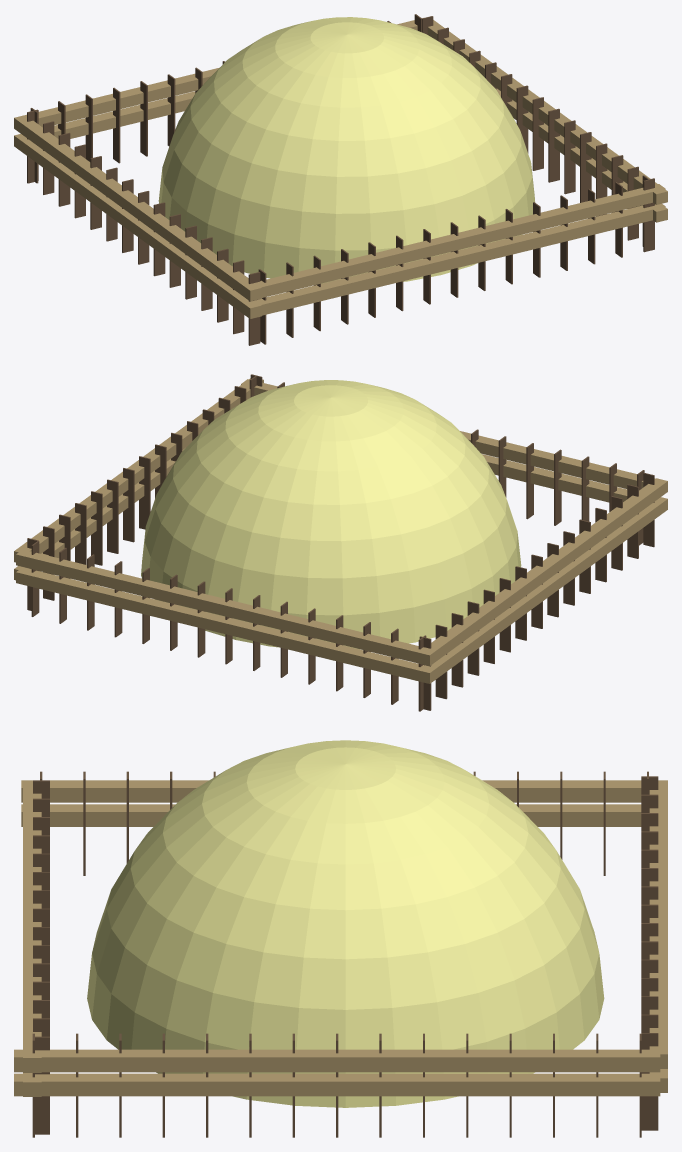
Rendered from country_obstacle_opt.fbx.
The picture shows the model from 3 angles, top to bottom: view 1: azimuth 30°, elevation 25°; view 2: azimuth 150°, elevation 25°; view 3: azimuth 270°, elevation 25°; orthographic projection. The views are drawn at different scales.
Parts seen in each view (by area): view 1: Sphere, Cube.064, Cube.065, Cube.067, Cube.066; view 2: Sphere, Cube.066, Cube.065, Cube.067, Cube.064; view 3: Sphere, Cube.067, Cube.065, Cube.064, Cube.066.
Boxes of the visible parts, x1,y1,x2,y2 form: Sphere: (158, 17, 535, 283); Cube.064: (251, 175, 665, 344); Cube.065: (14, 109, 261, 345); Cube.067: (422, 16, 667, 252); Cube.066: (15, 14, 422, 183); Sphere: (141, 380, 521, 649); Cube.066: (16, 541, 434, 711); Cube.065: (418, 472, 667, 710); Cube.067: (14, 374, 263, 610); Cube.064: (241, 375, 657, 545); Sphere: (87, 740, 604, 1107); Cube.067: (14, 1033, 660, 1137); Cube.065: (21, 771, 667, 875); Cube.064: (23, 780, 49, 1134); Cube.066: (641, 776, 667, 1130).
Size of the model in its own units: 7191 by 2948 by 7150.
